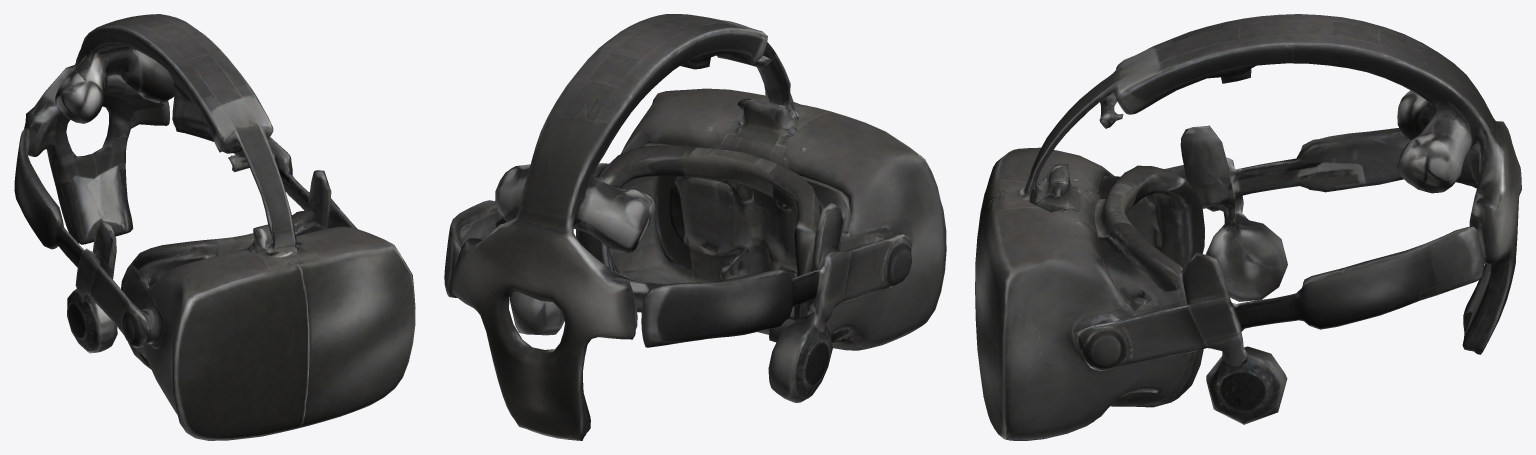
Rendered from VR_Headset_Halo_OpenG_0126162037_texture.glb.
3 renders of one model, left to right at view 1: azimuth 30°, elevation 25°; view 2: azimuth 150°, elevation 25°; view 3: azimuth 270°, elevation 25°, orthographic. The views are drawn at different scales.
Size of the model in its own units: 1.31 by 1.51 by 1.99.
Materials: 1 (1 with a texture image).
